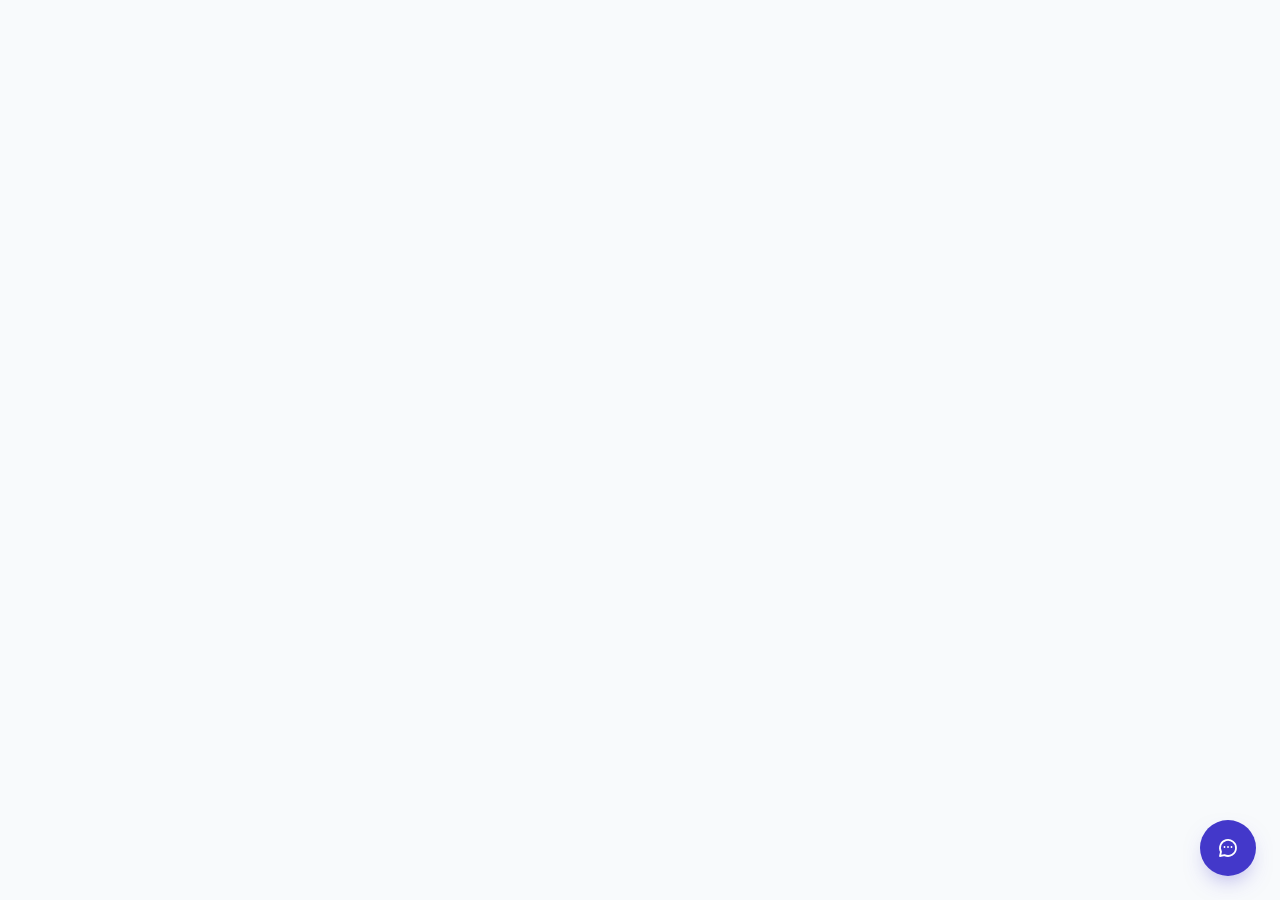
HTTP 429 rate_limited shows a clear message
Click the button named "Ask PortfolioAI about Irfan's work" at {"x": 1228, "y": 848}, box [1200,820,1256,876]
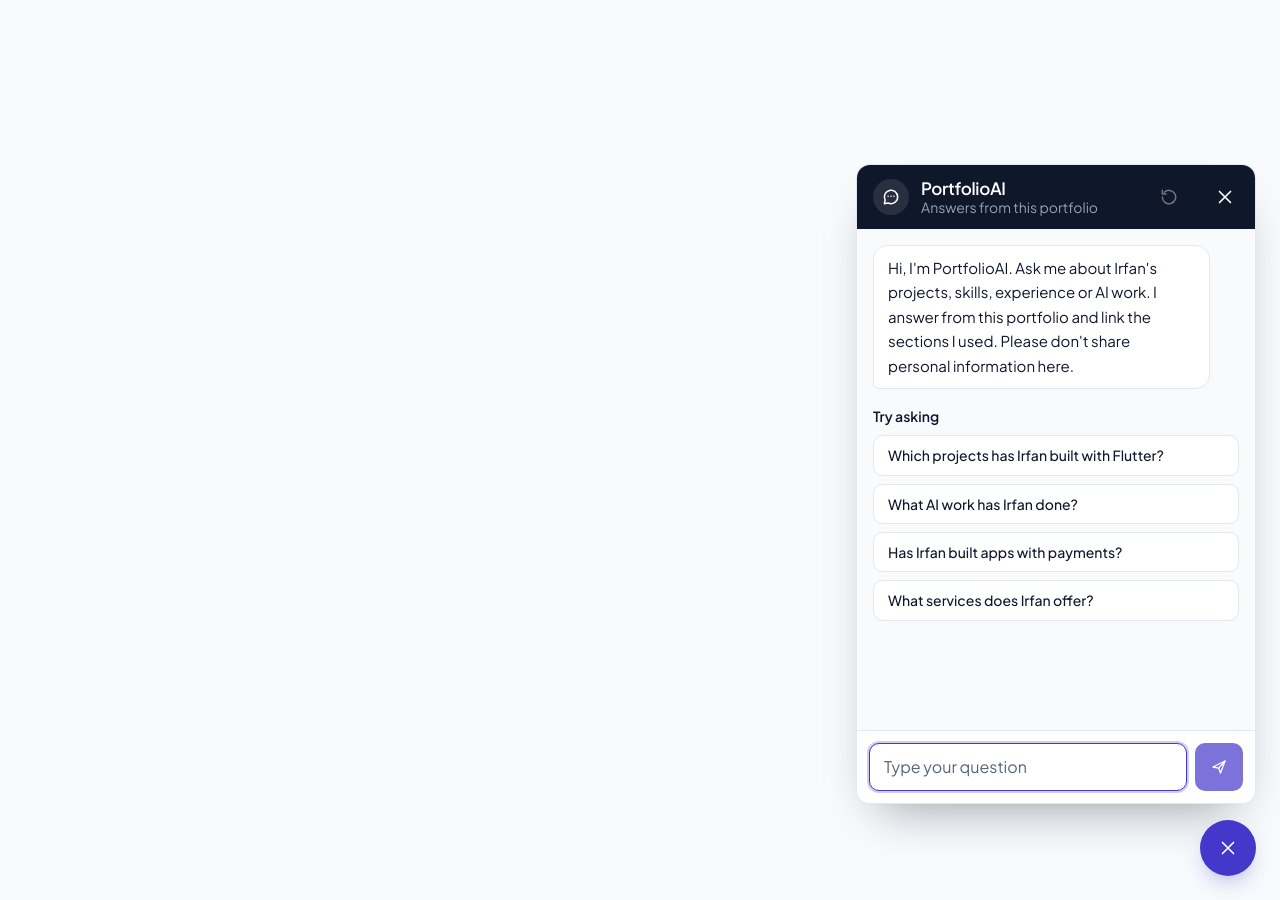
Type "Question" into the text box labelled "your question" at {"x": 1028, "y": 767}, box [869,743,1187,791]
Then press Enter
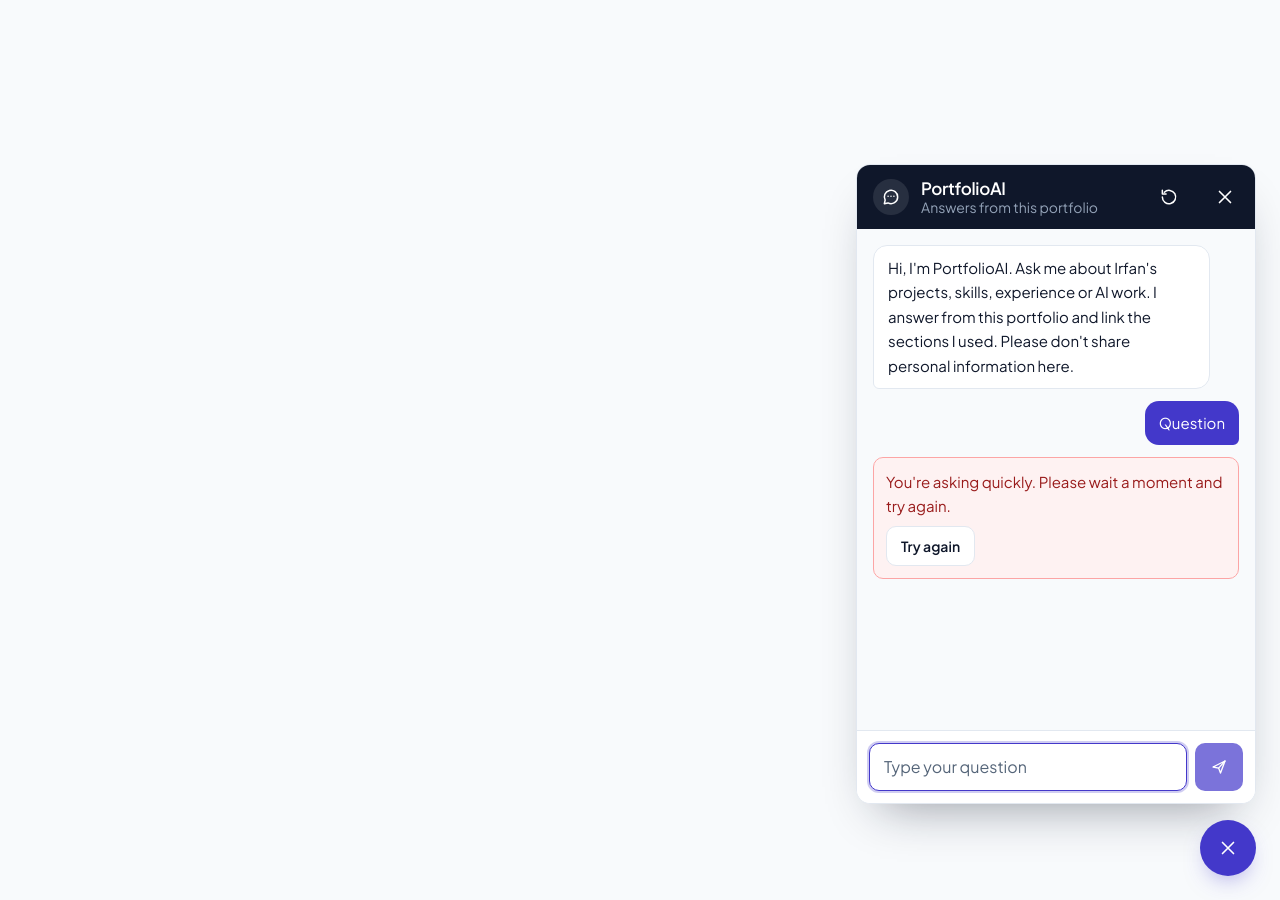
Now the text "You're asking quickly. Please wait a moment and try again." is shown, box [886,470,1226,518]
